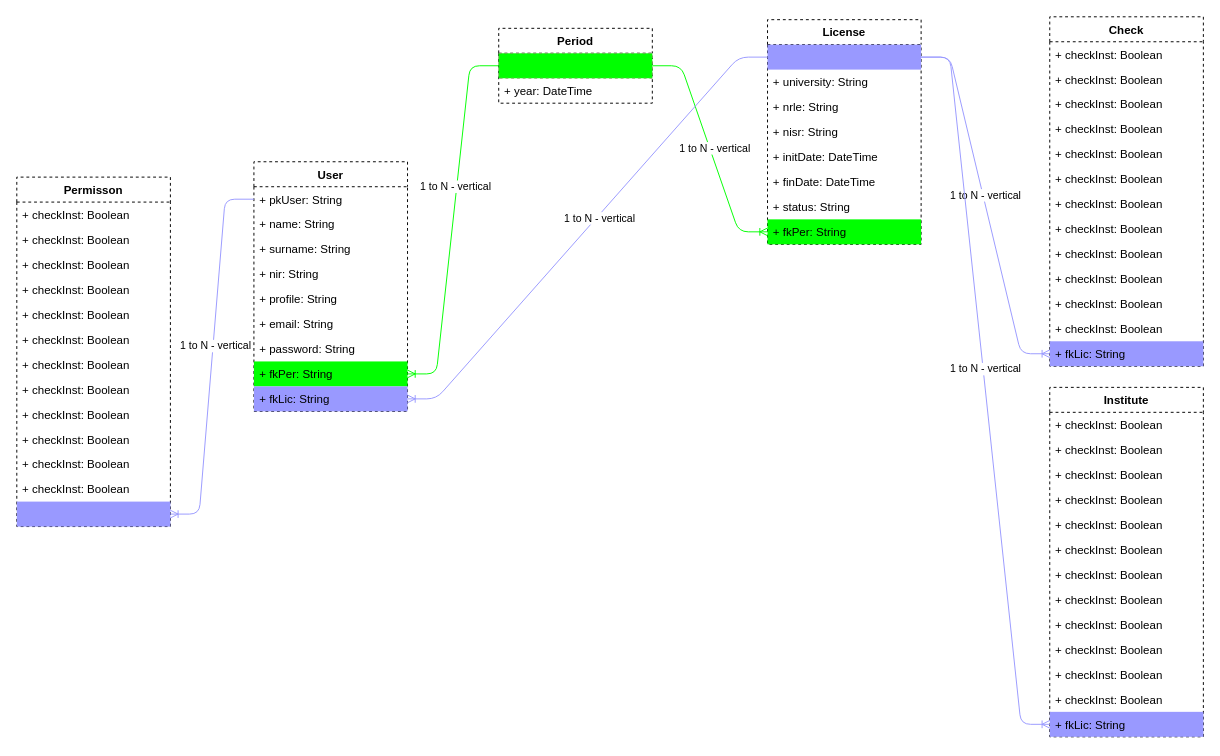
This 1220x756 diagram has some shape labels left out. The centre of each missing label's shape, as x and y in pixels:
+ fkUser: String: (x=93, y=513)
+ pkLic: String: (x=844, y=56)
+ pkPer: String: (x=575, y=65)
